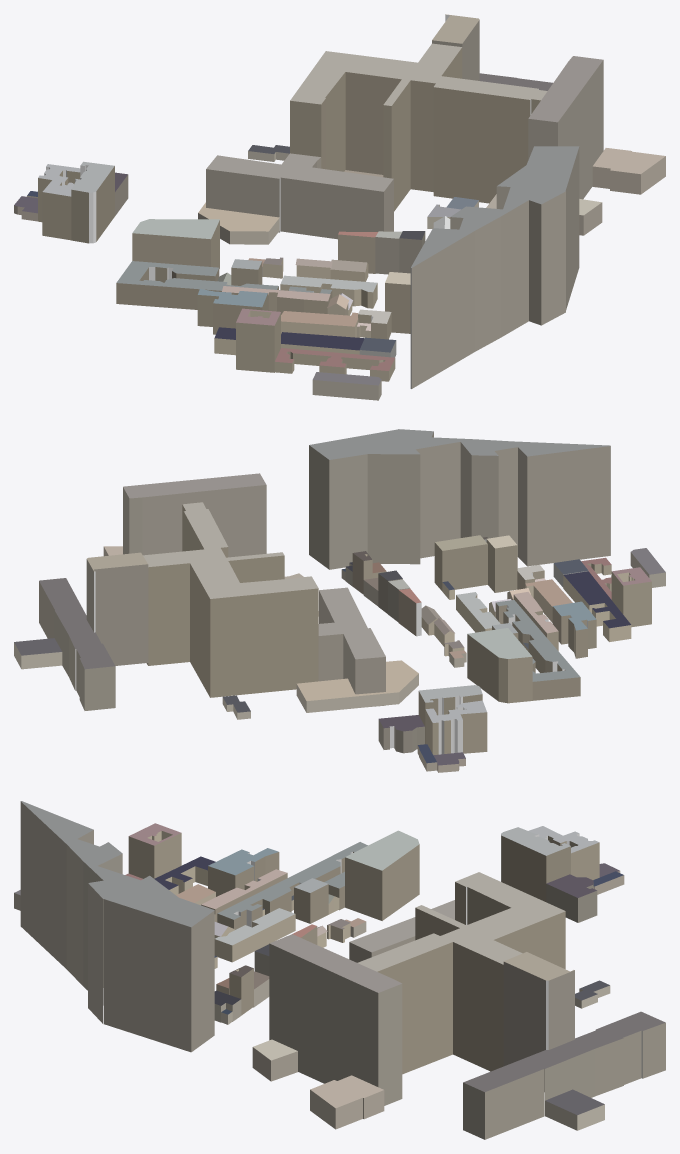
3 views of the same model, one above another, from view 1: azimuth 30°, elevation 25°; view 2: azimuth 150°, elevation 25°; view 3: azimuth 270°, elevation 25° (orthographic). The views are drawn at different scales.
Parts seen in each view (by area): view 1: tuile; view 2: tuile; view 3: tuile.
Part boxes in pixels (x1,y1,x2,y2): tuile: (14, 14, 665, 400); tuile: (14, 429, 665, 772); tuile: (14, 801, 665, 1139).
Size of the model in its own units: 276 by 63.62 by 280.
